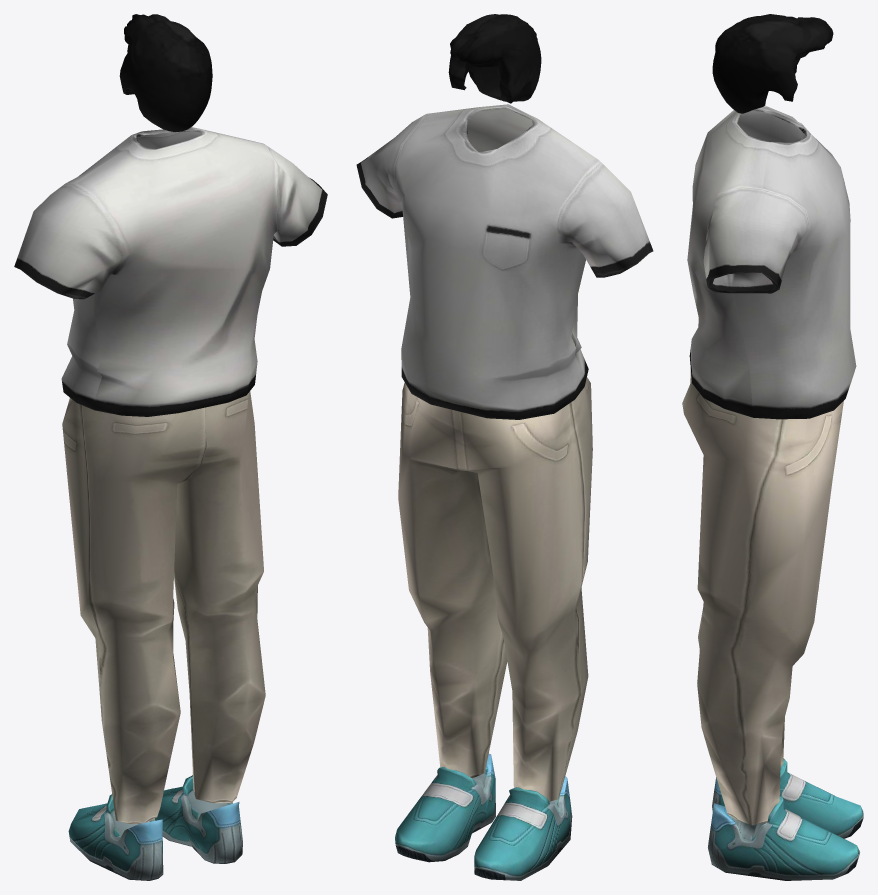
Rendered from 2ND  CLOTH .fbx.
The picture shows the model from 3 angles, left to right: view 1: azimuth 30°, elevation 25°; view 2: azimuth 150°, elevation 25°; view 3: azimuth 270°, elevation 25°; orthographic projection.
Parts seen in each view (by area): view 1: 2ND CLOTH; view 2: 2ND CLOTH; view 3: 2ND CLOTH.
Part boxes in pixels (<box>): 2ND CLOTH: <box>14,14,327,880</box>; 2ND CLOTH: <box>356,14,653,880</box>; 2ND CLOTH: <box>682,14,863,880</box>.
Size of the model in its own units: 53.46 by 144 by 28.53.
1 material, 1 textured.
